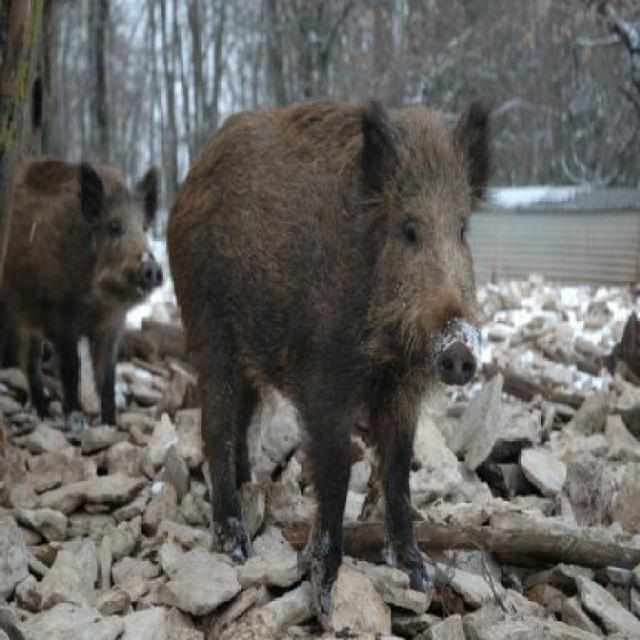wildboar: (166, 80, 499, 635), (0, 148, 163, 438)
